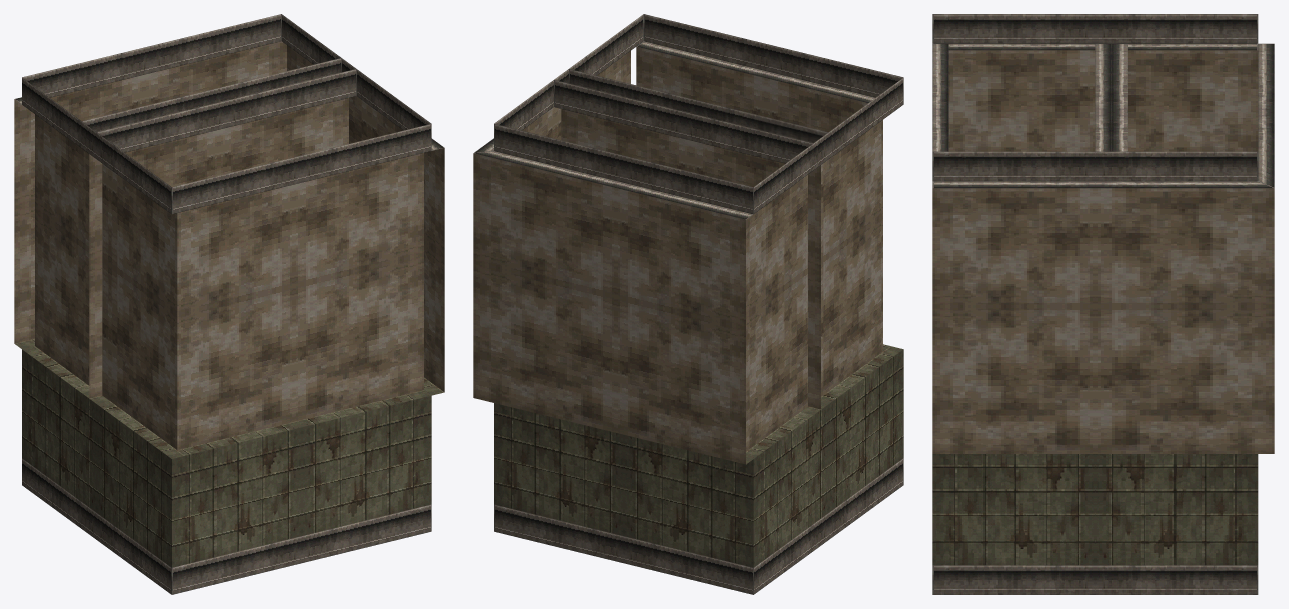
File: scene_kit.glb
The picture shows the model from 3 angles, left to right: view 1: azimuth 30°, elevation 25°; view 2: azimuth 150°, elevation 25°; view 3: azimuth 270°, elevation 25°; orthographic projection. The views are drawn at different scales.
Parts seen in each view (by area): view 1: corner_inner, corner_outer, wall_door_frame; view 2: corner_outer, corner_inner, wall_straight, wall_door_frame; view 3: corner_outer, corner_inner, wall_door_frame, wall_straight.
Part boxes in pixels (bbox=[...]): corner_inner: bbox=[22, 78, 431, 594]; corner_outer: bbox=[14, 14, 444, 395]; wall_door_frame: bbox=[82, 58, 356, 398]; corner_outer: bbox=[473, 14, 753, 594]; corner_inner: bbox=[636, 14, 903, 594]; wall_straight: bbox=[561, 69, 828, 409]; wall_door_frame: bbox=[554, 80, 827, 414]; corner_outer: bbox=[932, 43, 1274, 594]; corner_inner: bbox=[932, 14, 1258, 151]; wall_door_frame: bbox=[1095, 43, 1127, 151]; wall_straight: bbox=[1095, 49, 1111, 151].
Size of the model in its own units: 2.1 by 3 by 2.1.
8 materials, 8 textured.
